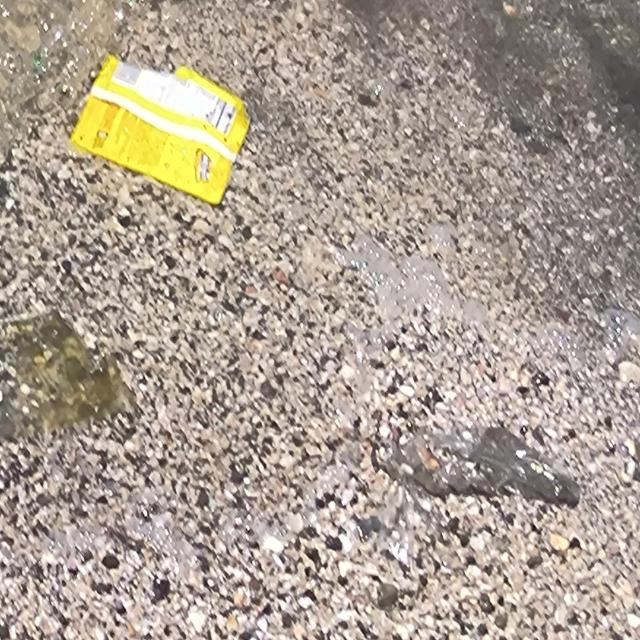plastic_waste: (69, 51, 253, 208)
